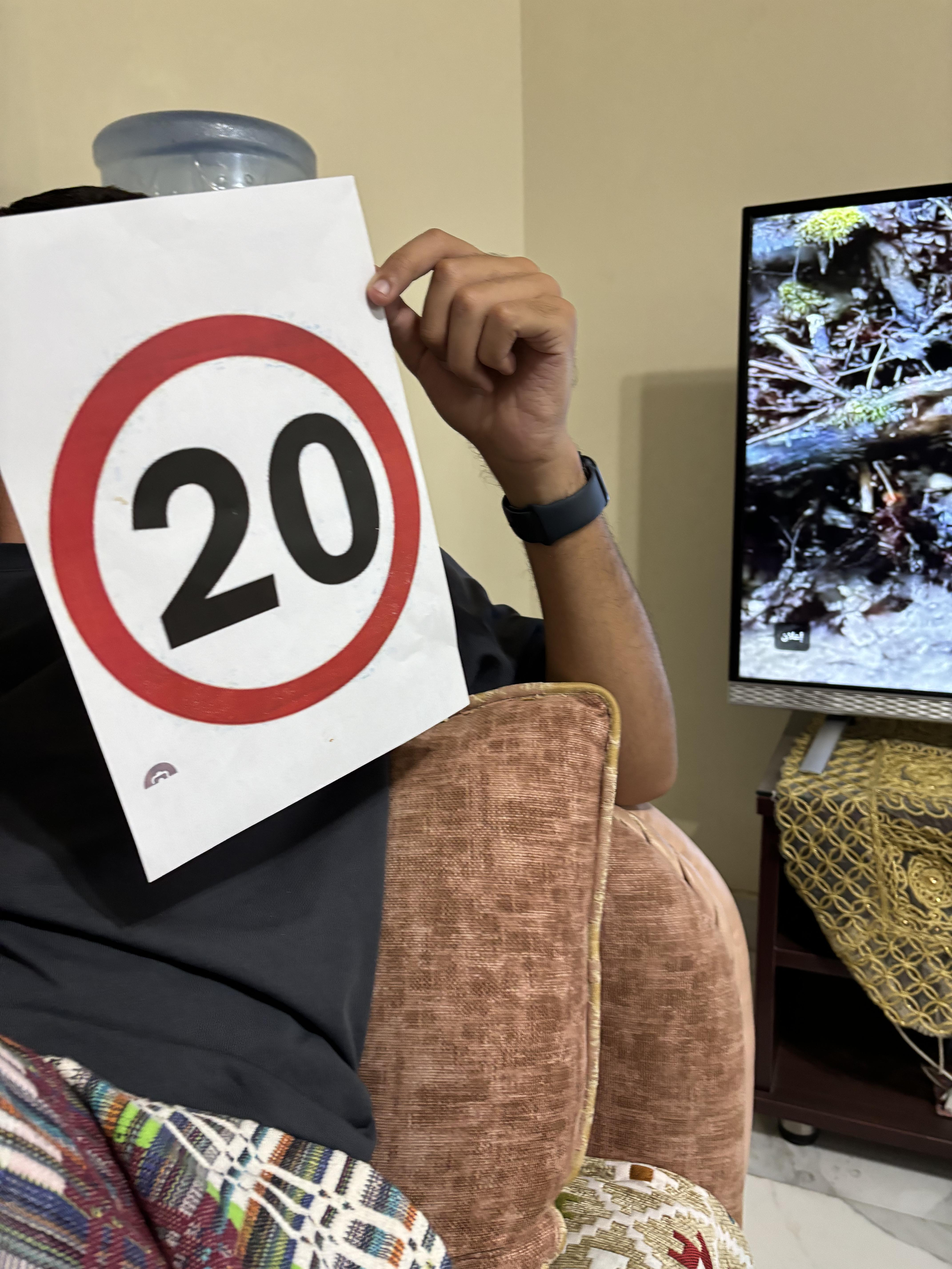20-Speed: (45, 305, 425, 732)
